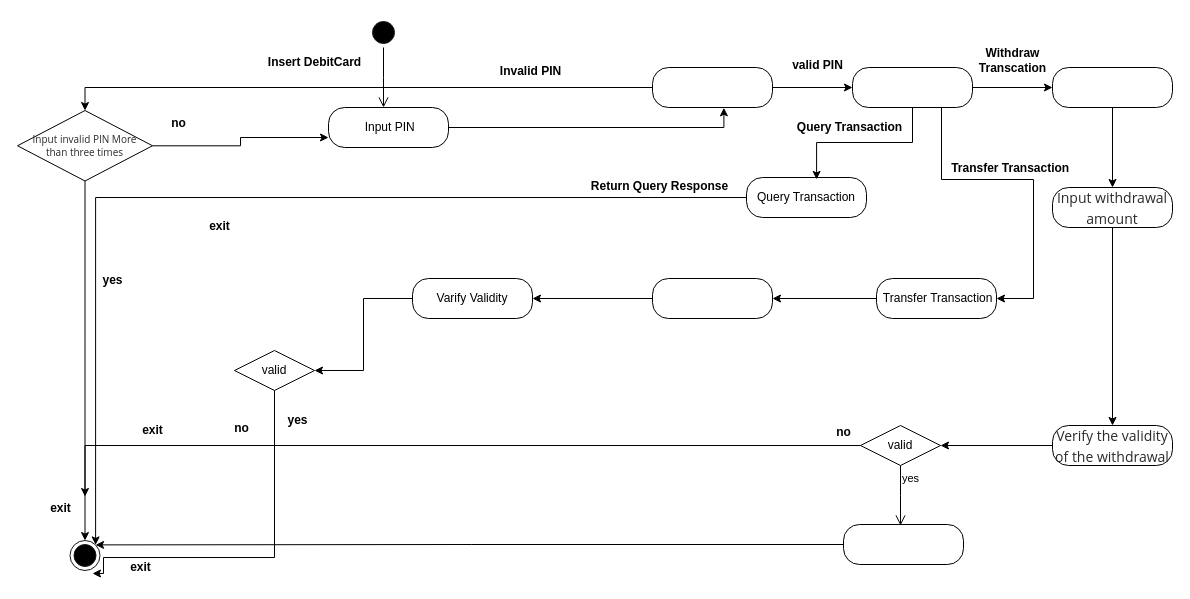
This 1190x599 diagram has some shape labels left out. Here are the shapes that lost their labels. From the top down, the centre of each, then its label:
At [712,87]: "Validate PIN".
At [912,87]: "Chose Transaction Service".
At [1112,87]: "Withdraw Transaction".
At [712,298]: "input toTransferAccount".
At [903,544]: "Spit money".
